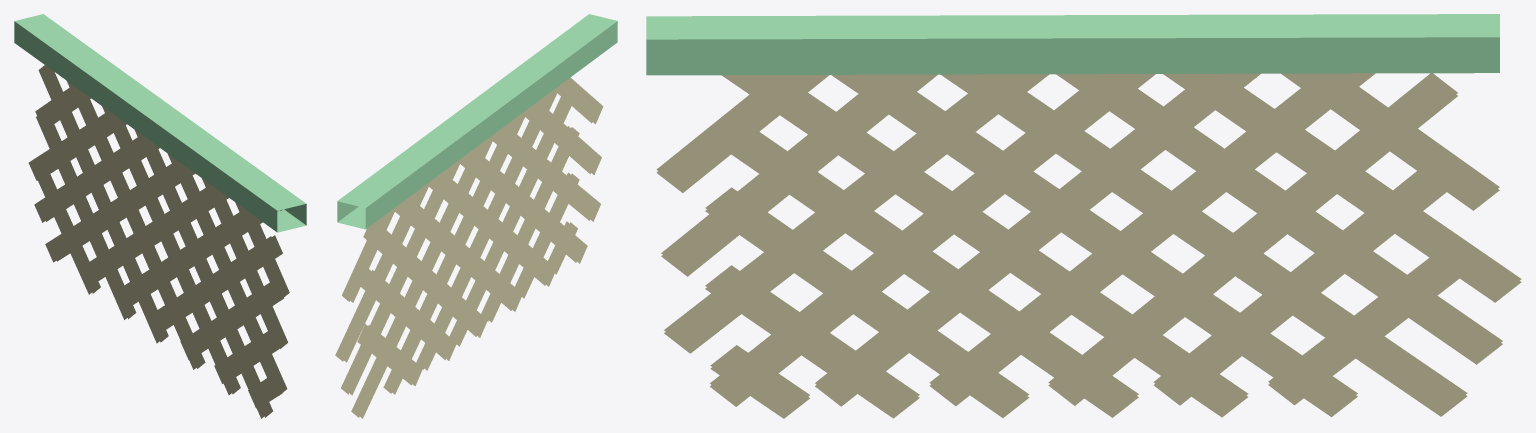
The model's file is fence.FBX.
The picture shows the model from 3 angles, left to right: view 1: azimuth 30°, elevation 25°; view 2: azimuth 150°, elevation 25°; view 3: azimuth 270°, elevation 25°; orthographic projection. The views are drawn at different scales.
Visible parts, largest first — view 1: fence; view 2: fence; view 3: fence.
Part boxes in pixels (<box>): fence: <box>14,14,306,418</box>; fence: <box>335,14,617,418</box>; fence: <box>646,14,1521,418</box>.
Bounding box in the file's own units: 60.86 × 425 × 880.
